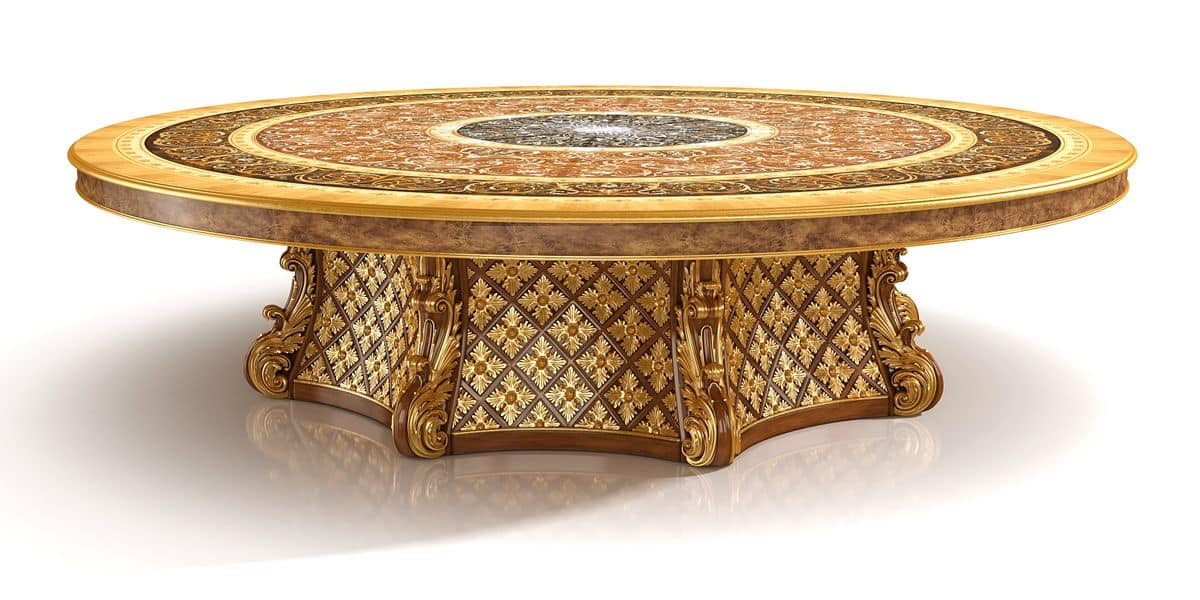Carving Table: (86, 78, 1099, 453)
